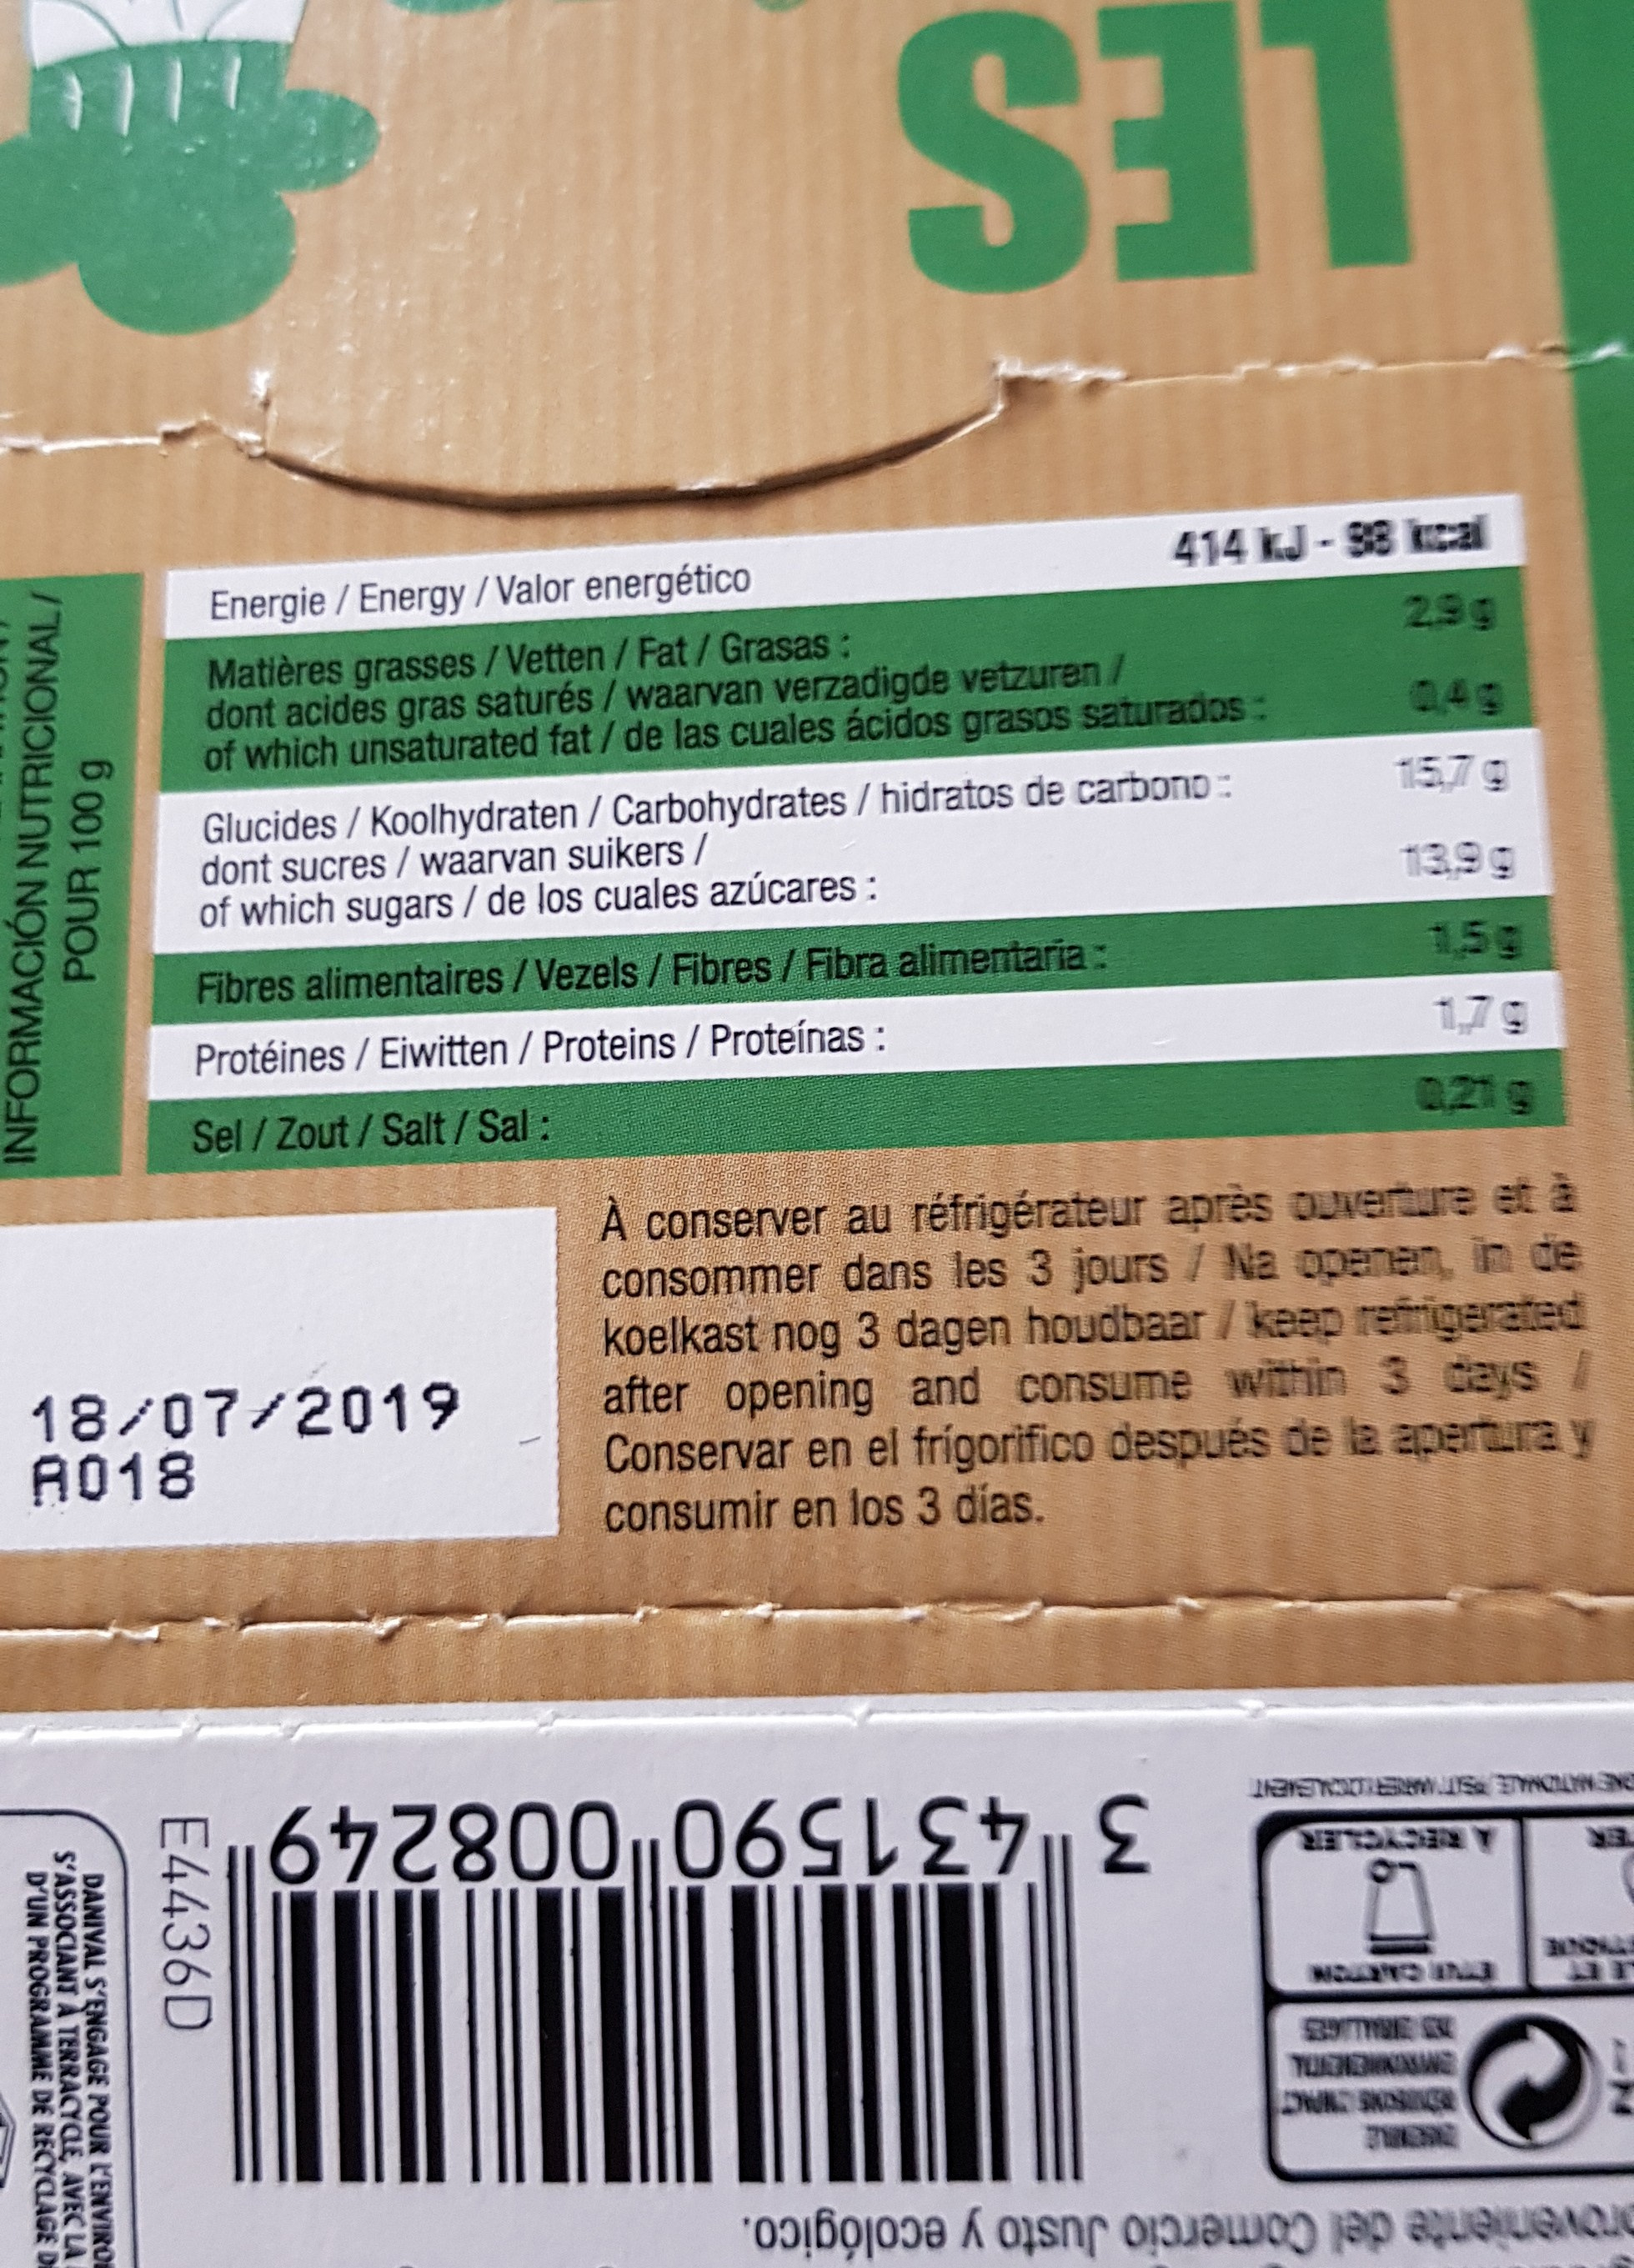column: (188, 544, 1264, 1159), (1347, 512, 1535, 1127)
table: (136, 479, 1562, 1183)
